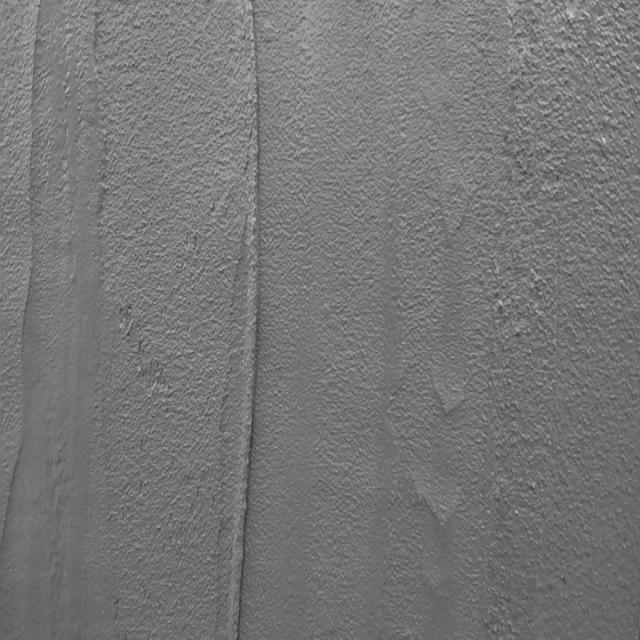trowels marks: (228, 20, 276, 640), (18, 11, 48, 540)
